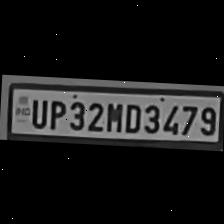2: (84, 97, 104, 131)
3: (140, 99, 160, 133), (66, 96, 86, 128)
4: (160, 100, 180, 132)
7: (176, 100, 196, 134)
9: (194, 102, 218, 134)
D: (120, 98, 142, 132)
M: (102, 97, 122, 130)
P: (45, 96, 65, 128)
U: (26, 93, 48, 126)
